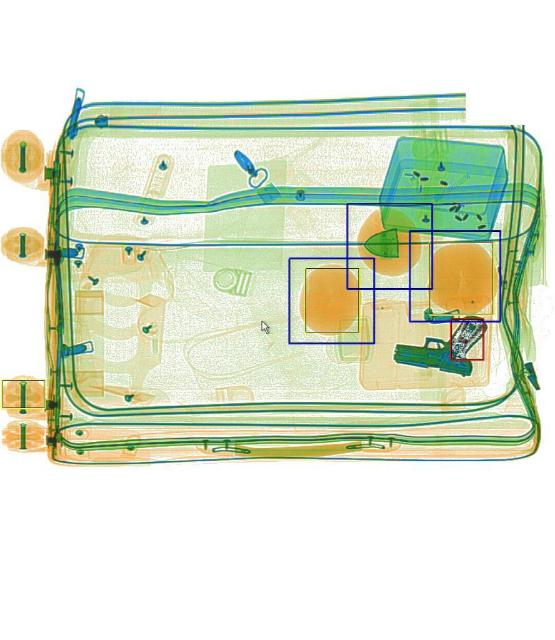Gun: (391, 300, 484, 378)
